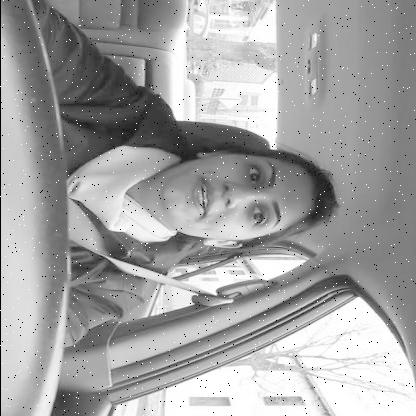seatbelt: (67, 140, 341, 309)
